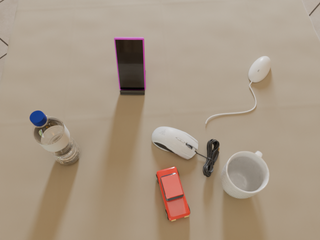bottle: (30, 111, 81, 165)
cup: (221, 151, 269, 198)
mouse: (152, 127, 198, 159), (249, 56, 271, 82)
phone: (114, 37, 146, 90)
toy_car: (156, 167, 190, 221)
